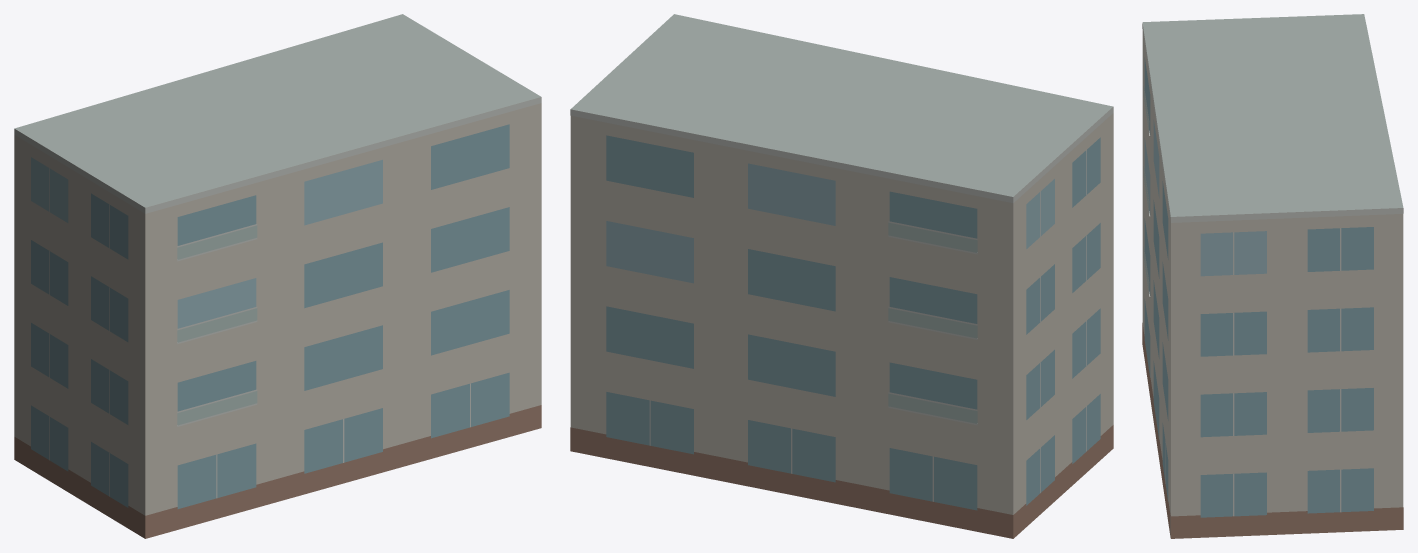
Rendered from survey-upis-32757085.glb.
The picture shows the model from 3 angles, left to right: view 1: azimuth 30°, elevation 25°; view 2: azimuth 150°, elevation 25°; view 3: azimuth 270°, elevation 25°; orthographic projection. The views are drawn at different scales.
Visible parts, largest first — view 1: survey-upis-32757085.tmp; view 2: survey-upis-32757085.tmp; view 3: survey-upis-32757085.tmp.
Part boxes in pixels (x1=…): survey-upis-32757085.tmp: x1=14, y1=14, x2=541, y2=538; survey-upis-32757085.tmp: x1=570, y1=14, x2=1113, y2=538; survey-upis-32757085.tmp: x1=1142, y1=14, x2=1403, y2=538.
Size of the model in its own units: 18 by 13.3 by 9.79.
